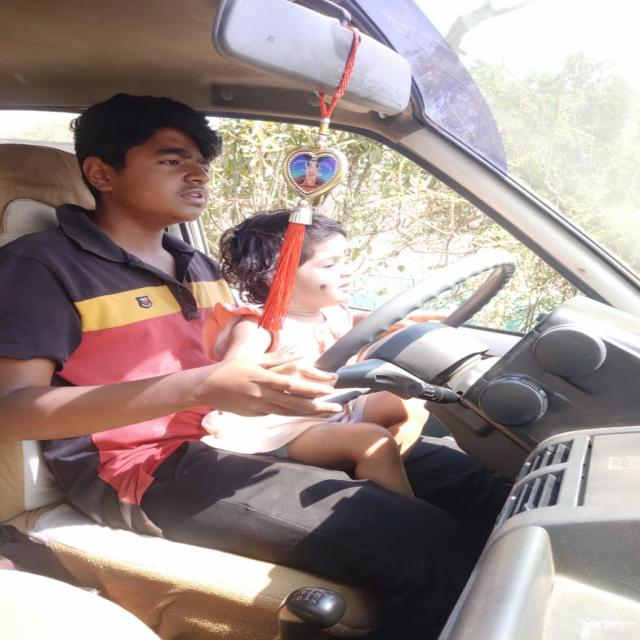child: (225, 218, 357, 324)
person: (72, 96, 228, 223)
